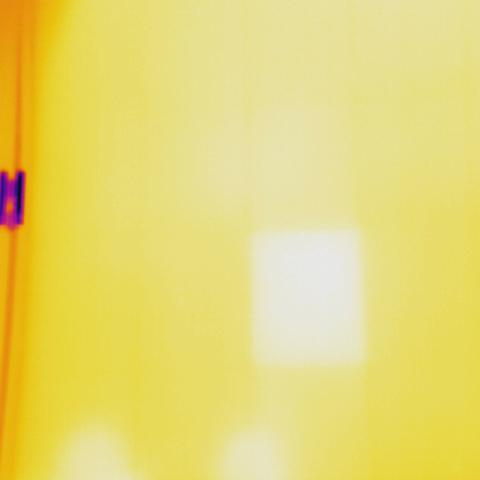fault: (248, 224, 369, 371)
